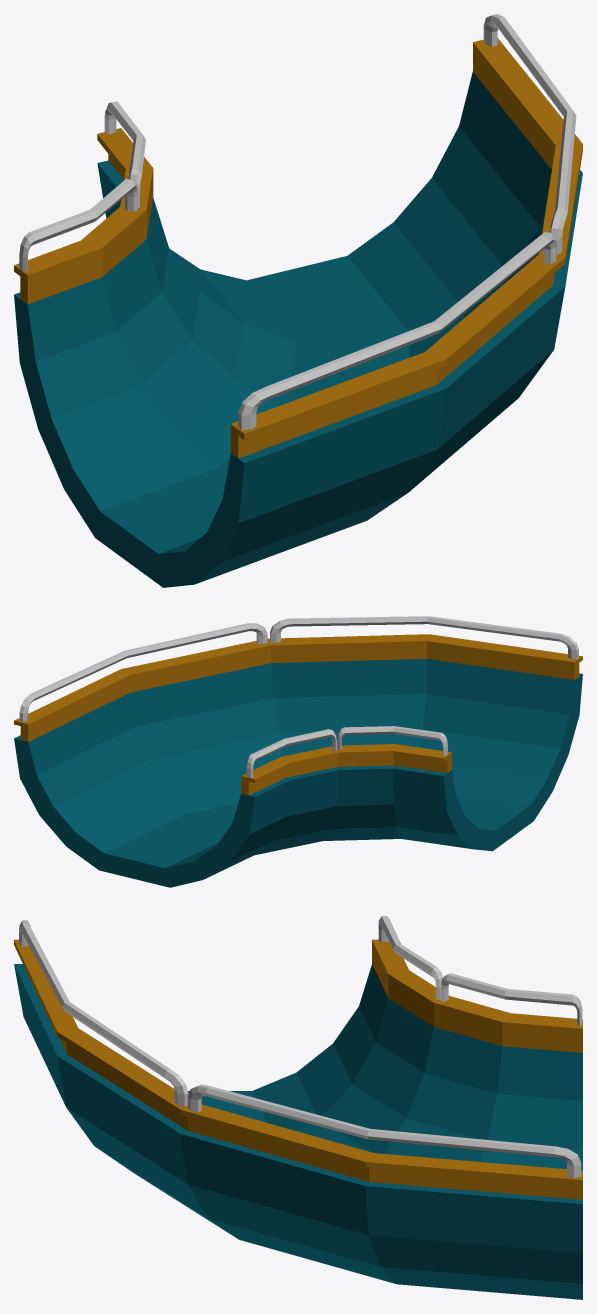
File: halfpipe-curveRight-90_s.FBX
3 views of the same model, one above another, from view 1: azimuth 30°, elevation 25°; view 2: azimuth 150°, elevation 25°; view 3: azimuth 270°, elevation 25° (orthographic). The views are drawn at different scales.
Parts seen in each view (by area): view 1: halfpipe-curveRight-90_s, wall_l, wall_r; view 2: halfpipe-curveRight-90_s, wall_l, wall_r; view 3: halfpipe-curveRight-90_s, wall_l, wall_r.
Part boxes in pixels (bbox=[...]): halfpipe-curveRight-90_s: bbox=[14, 71, 582, 587]; wall_l: bbox=[230, 14, 582, 458]; wall_r: bbox=[14, 101, 153, 304]; halfpipe-curveRight-90_s: bbox=[14, 659, 582, 887]; wall_l: bbox=[14, 616, 582, 741]; wall_r: bbox=[241, 726, 451, 795]; halfpipe-curveRight-90_s: bbox=[14, 964, 582, 1299]; wall_l: bbox=[14, 920, 582, 1199]; wall_r: bbox=[372, 916, 582, 1052].
Size of what is drawn, in the model's own units: 191 by 191 by 75.73.
